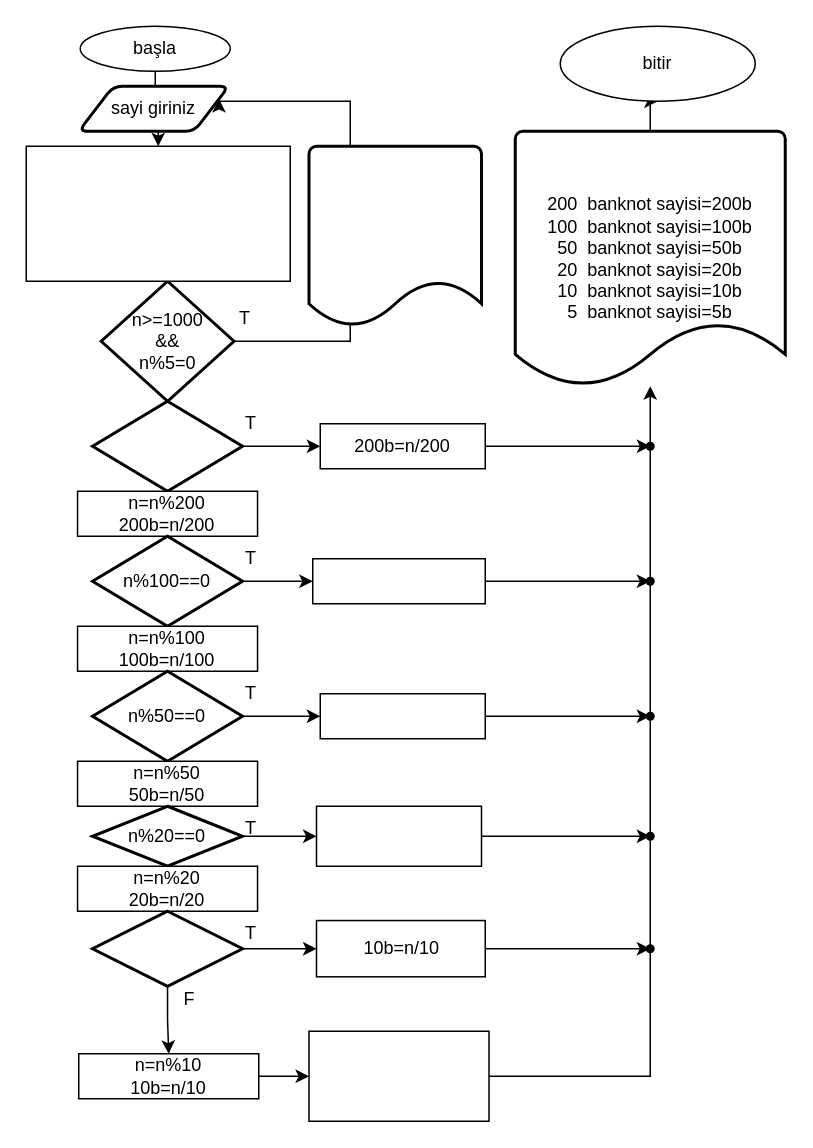
The diagram is 813 pixels wide and 1148 high, and some of its shapes have lost their labels. Here are the shapes that lost their labels. From the top down, the centre of each, then its label:
At point (157, 213): "say,i=n 200b=0 100b=0 50b=0 20b=0 10b=0 5b=0".
At point (394, 235): "hatalı sayi girdiniz 5'in katları ve 1000'den büyük olmalı".
At point (166, 445): "n%200==0".
At point (398, 580): "100b=n/100".
At point (402, 715): "50b=n/50".
At point (398, 835): "20b=n/20".
At point (166, 948): "n%10==0".
At point (398, 1075): "5b=n/5".
